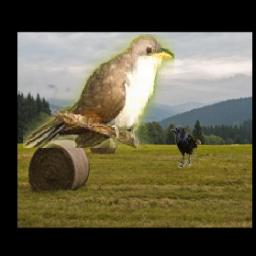Crow: (170, 126, 197, 169)
Cuckoo: (24, 34, 175, 148)
